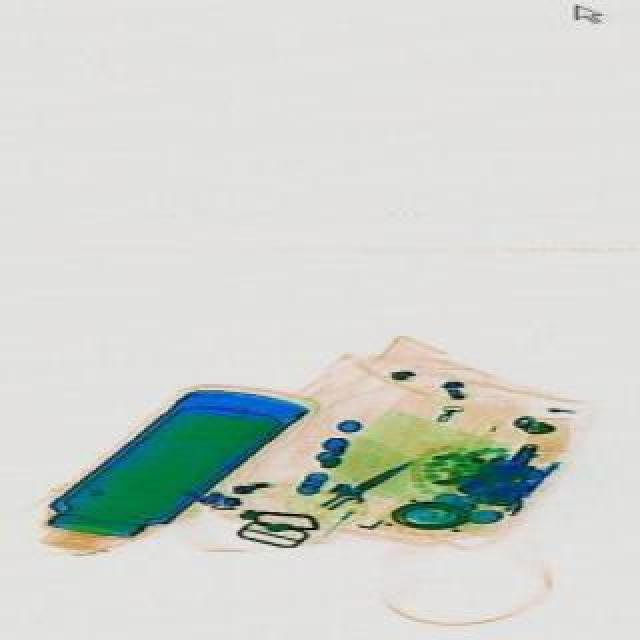knife: (310, 446, 412, 520)
